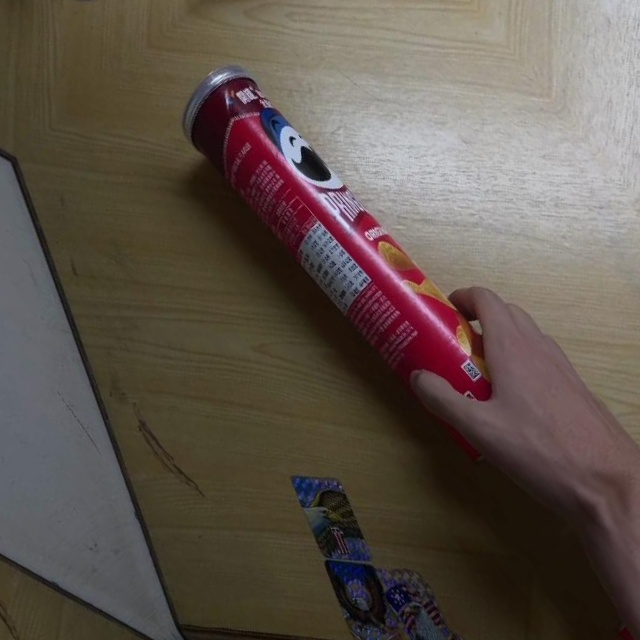Pringles: (162, 45, 549, 478)
